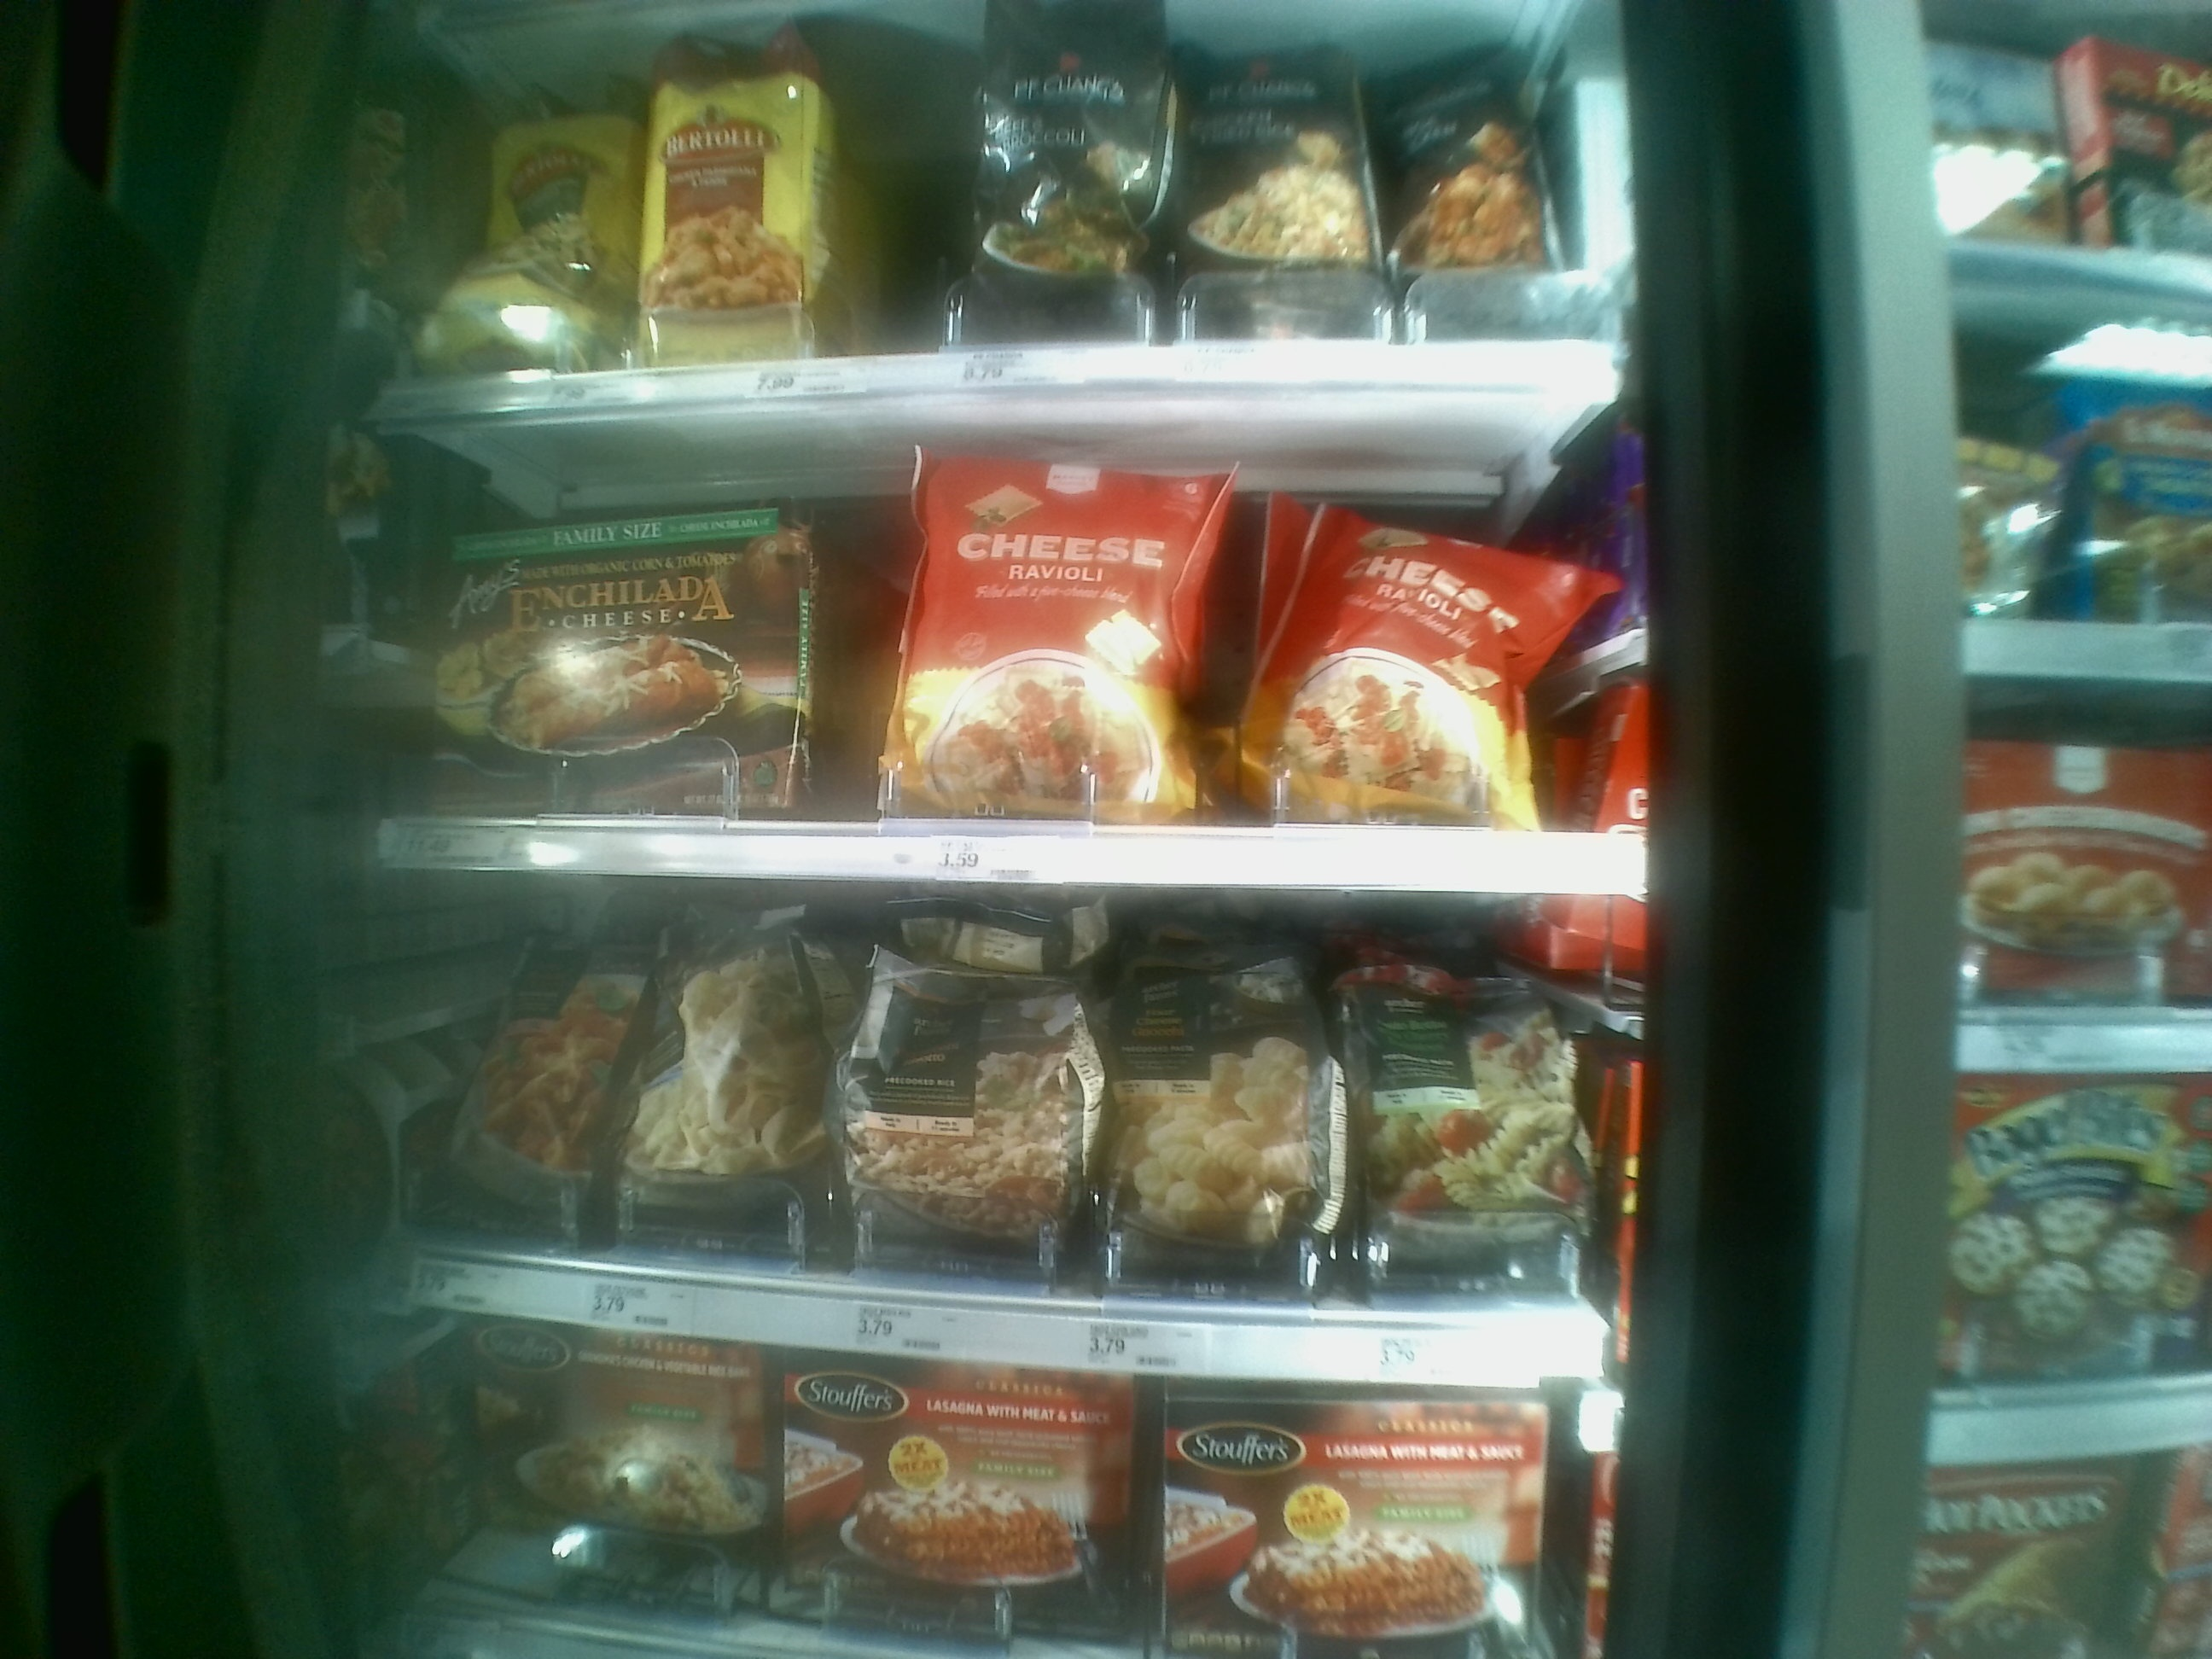shelf: (397, 901, 1601, 1370), (381, 444, 1627, 894), (413, 68, 1581, 430)
